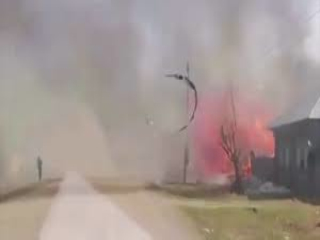fire: (192, 92, 276, 176)
smoke: (263, 3, 318, 128)
